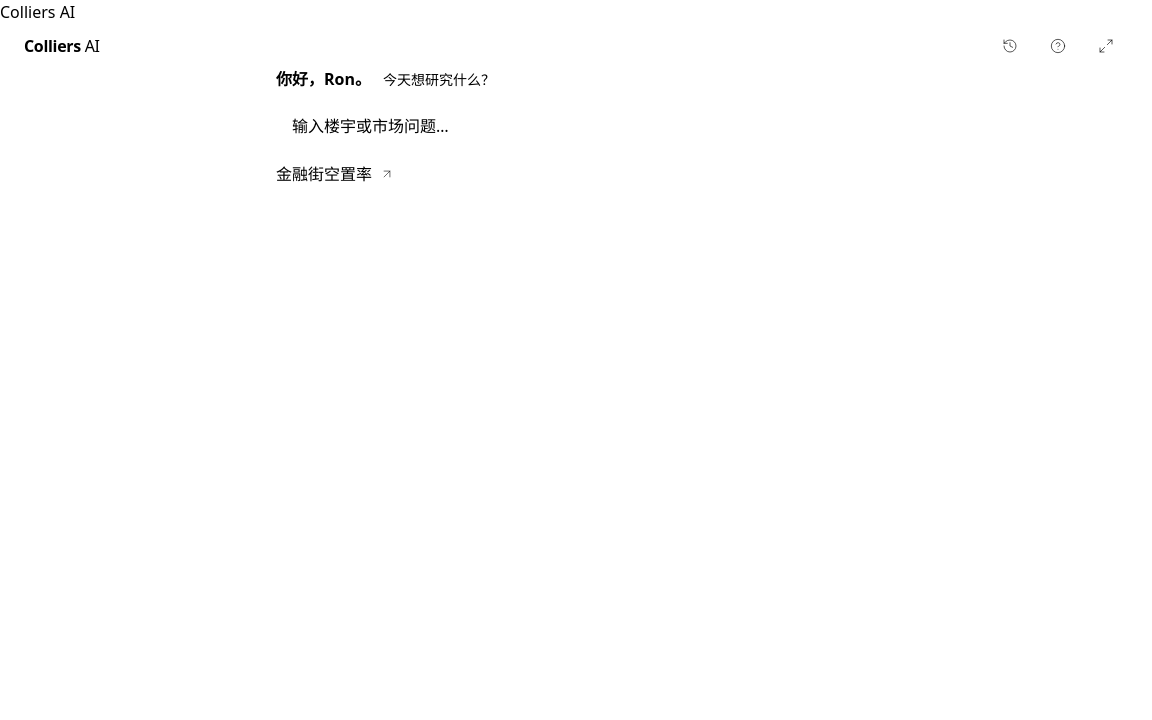
experience 2.0 P0 › does not advertise or invent an example outside the server-authorized list
Expected: the text box is enabled, 292,112 -> 816,140
Click the button "金融街空置率": (335, 174) 276,158 -> 394,190
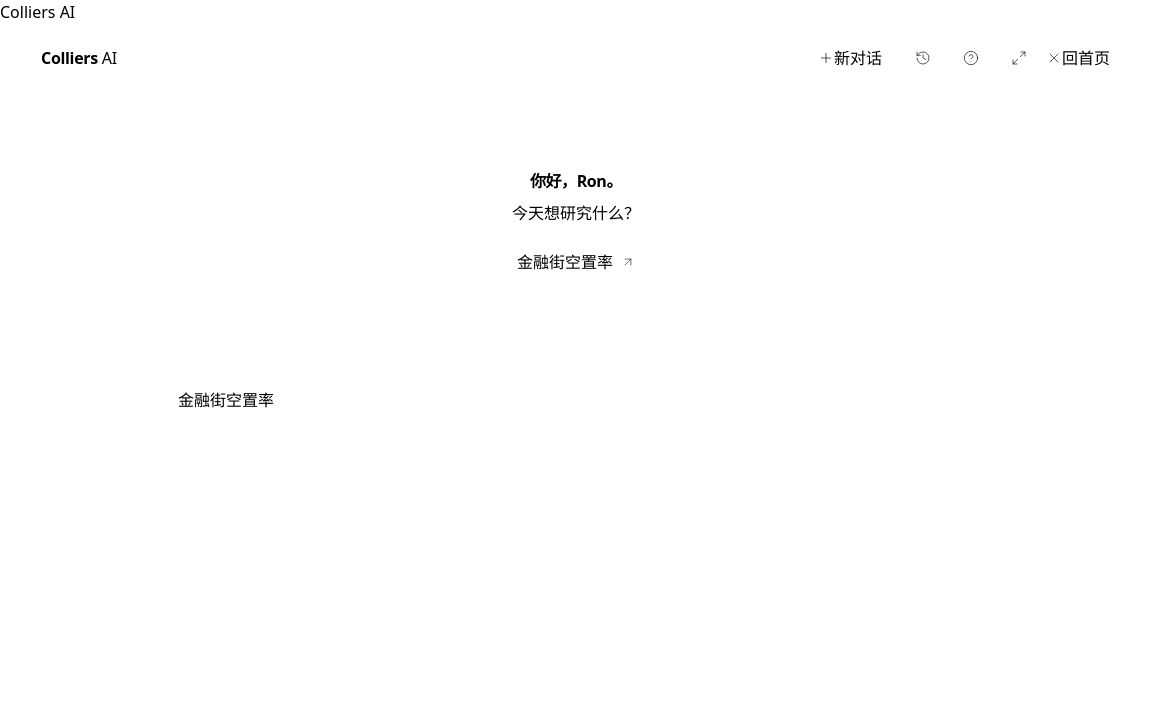
Result: the text box holds "金融街空置率" at 178,378 -> 928,414
